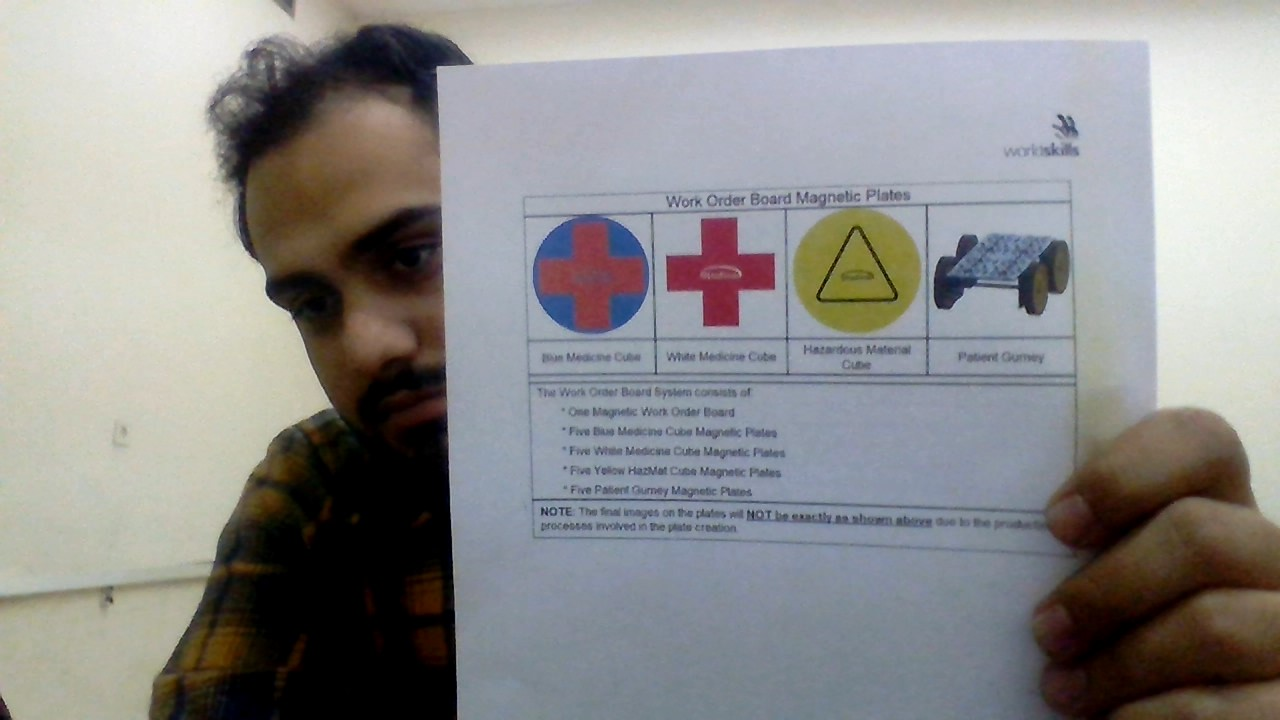bmc: (527, 218, 653, 332)
hmc: (787, 215, 923, 334)
pg: (931, 209, 1074, 337)
wmc: (657, 219, 779, 330)
